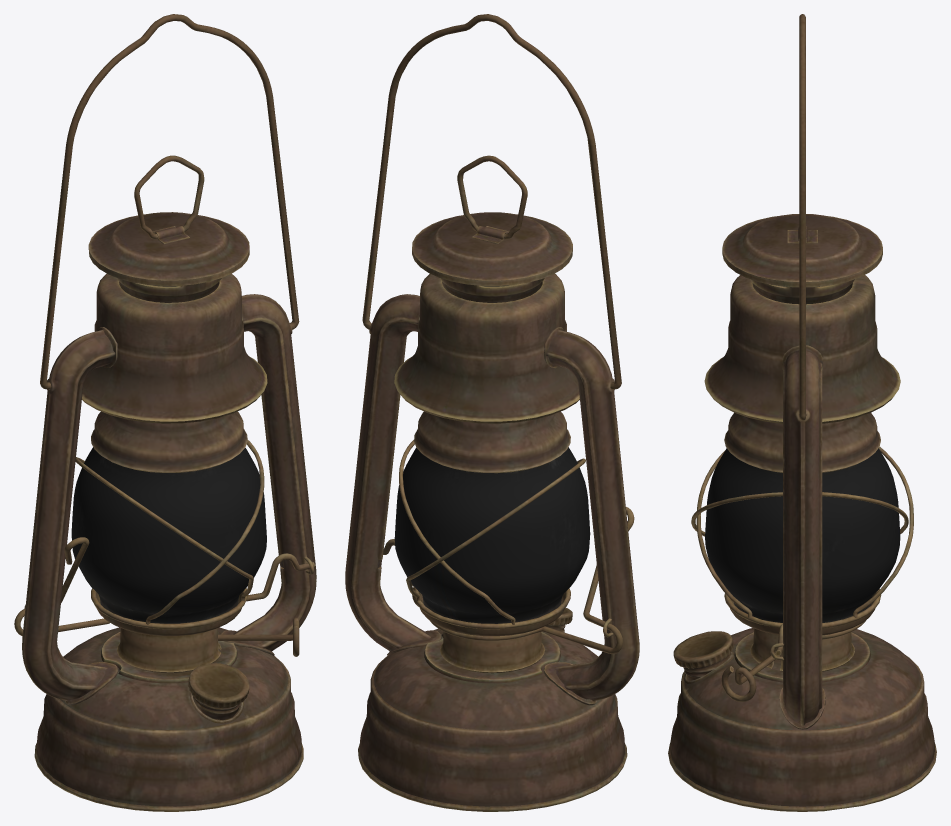
File: Lantern_01.glb
The picture shows the model from 3 angles, left to right: view 1: azimuth 30°, elevation 25°; view 2: azimuth 150°, elevation 25°; view 3: azimuth 270°, elevation 25°; orthographic projection.
Parts seen in each view (by area): view 1: Lantern_01, Lantern_01_glass; view 2: Lantern_01, Lantern_01_glass; view 3: Lantern_01, Lantern_01_glass.
Part boxes in pixels (x1=…): Lantern_01: x1=14, y1=14, x2=316, y2=811; Lantern_01_glass: x1=71, y1=447, x2=266, y2=623; Lantern_01: x1=345, y1=14, x2=639, y2=811; Lantern_01_glass: x1=394, y1=447, x2=590, y2=623; Lantern_01: x1=668, y1=14, x2=936, y2=811; Lantern_01_glass: x1=705, y1=448, x2=900, y2=622.
Bounding box in the file's own units: 0.1221 × 0.2942 × 0.0971.
2 materials, 2 textured.
